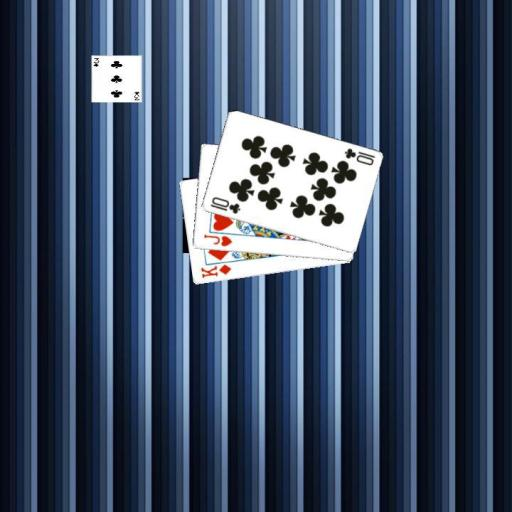10C: (207, 194, 242, 216), (342, 145, 377, 167)
JH: (201, 231, 233, 248)
KD: (198, 261, 233, 279)
